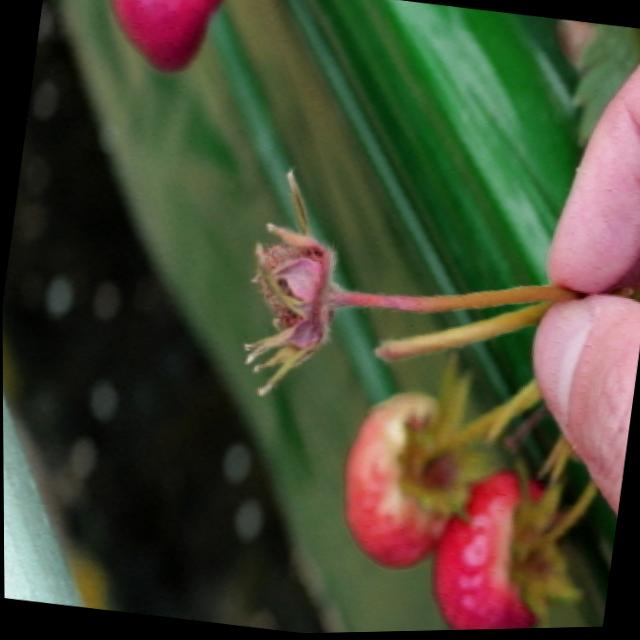Gray Mold: (240, 224, 336, 397)
